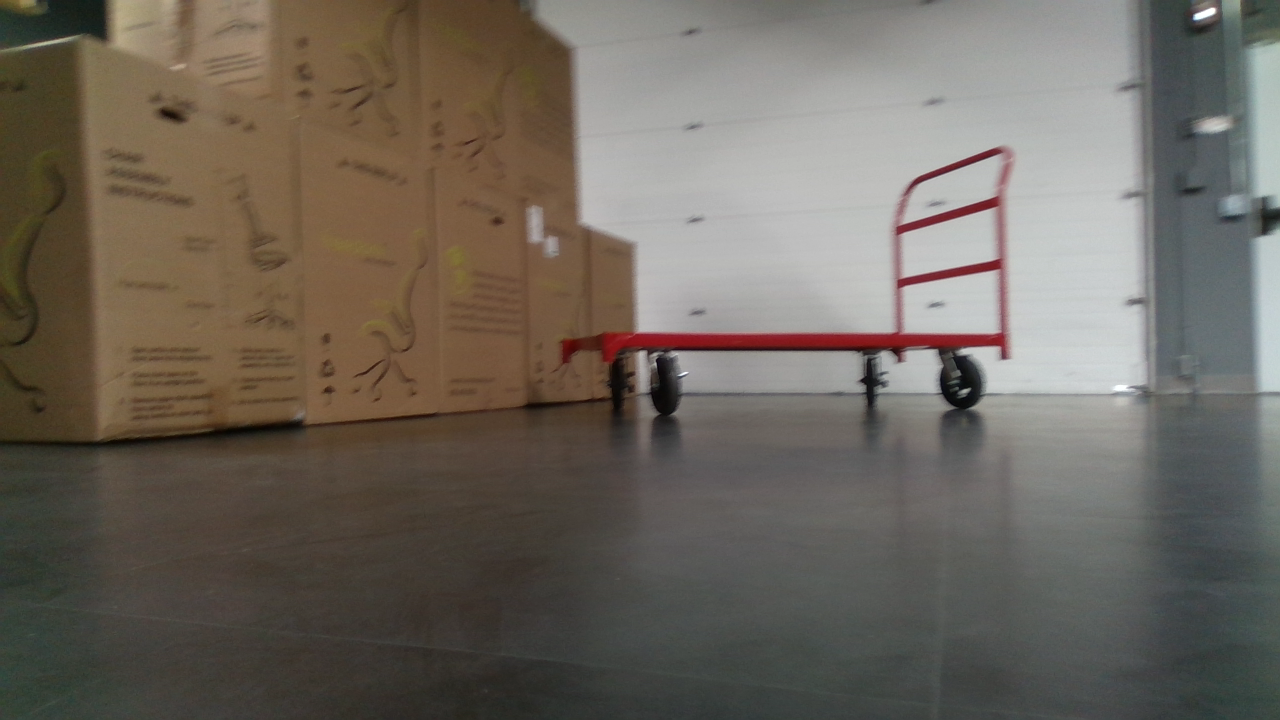Dolly: (558, 144, 1015, 423)
Wheel: (939, 355, 985, 411), (648, 356, 681, 418), (604, 359, 630, 408), (859, 360, 884, 404)
